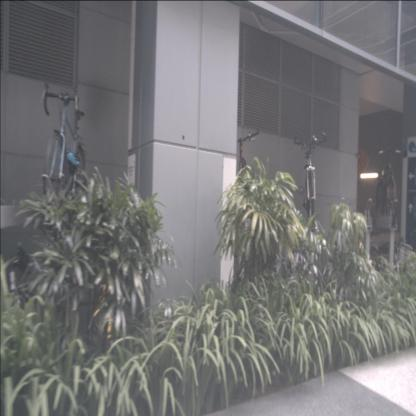vehicle-bicycle: (40, 82, 87, 200), (225, 126, 260, 235), (294, 133, 327, 232), (375, 148, 402, 228)
